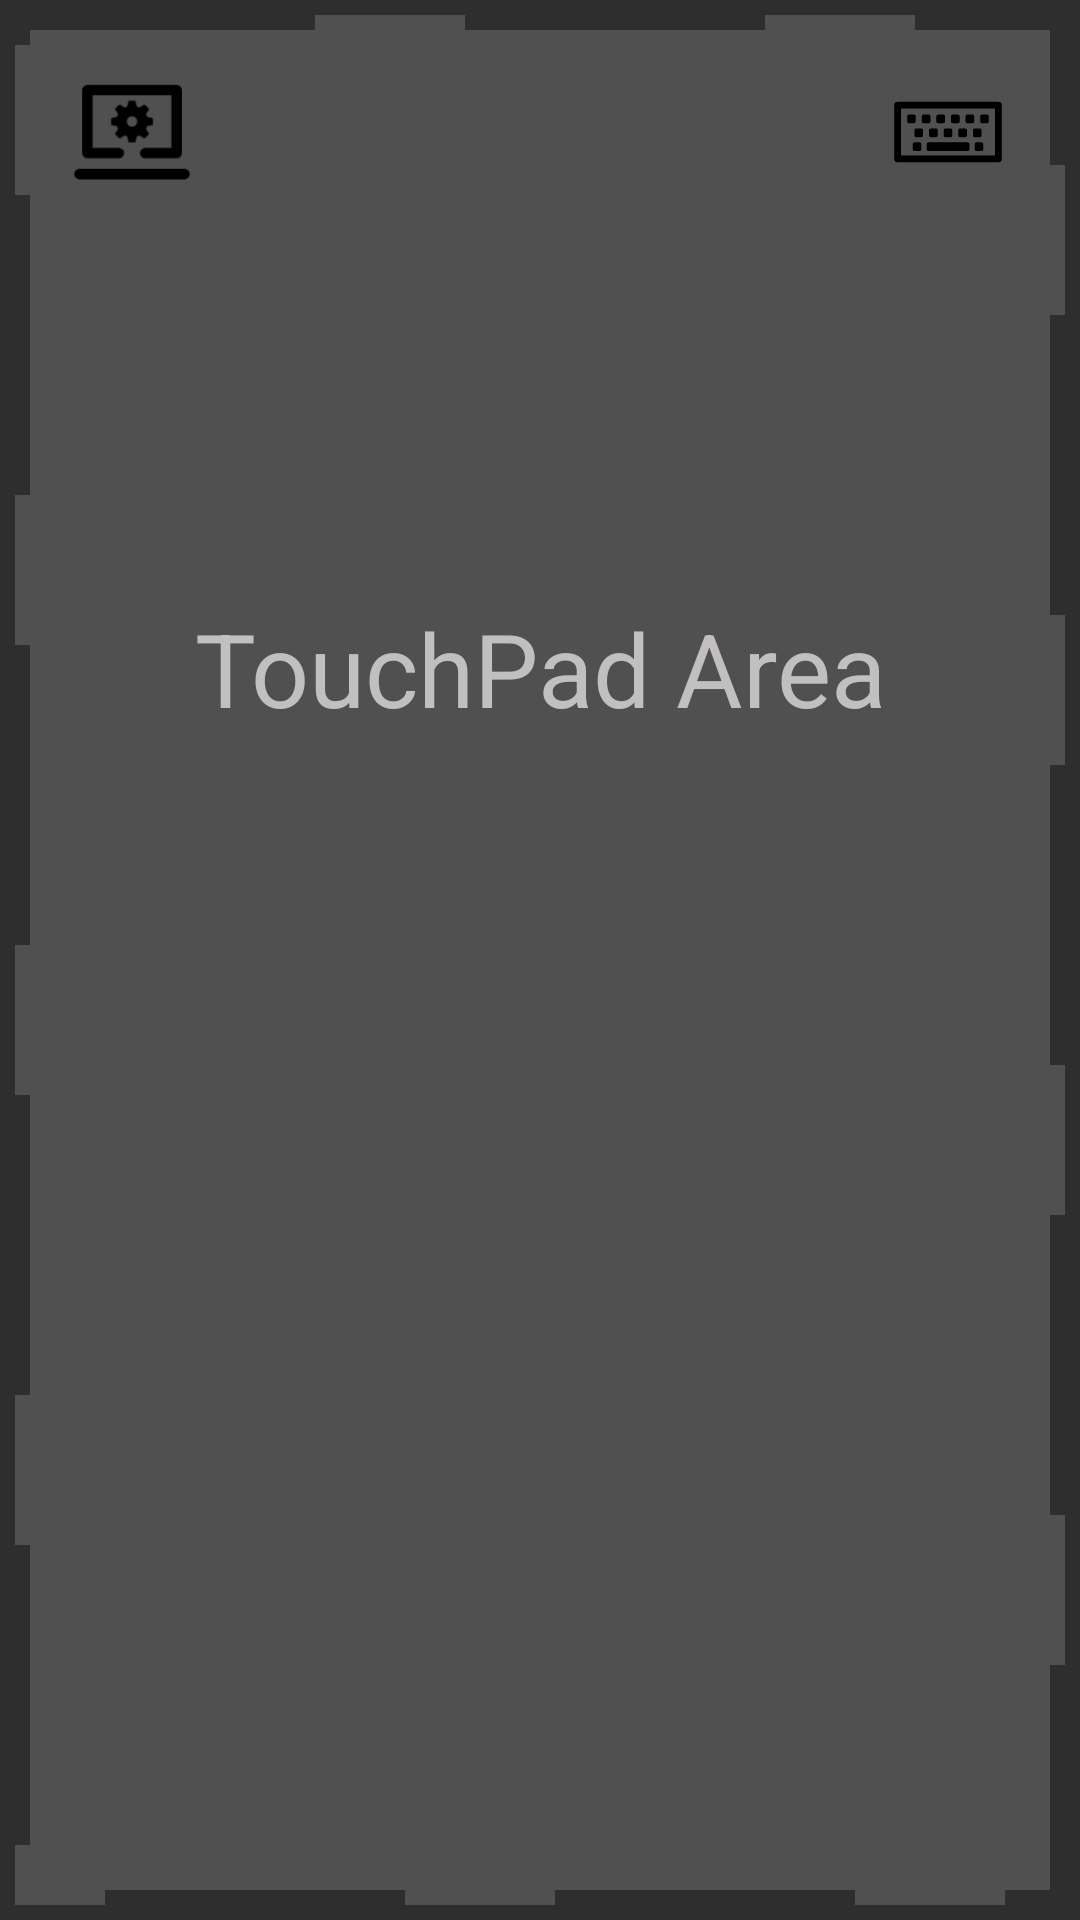

Named icons in this screenshot (1080 x 1920) and their centers, [x,y]:
keyboard: [948,132]
